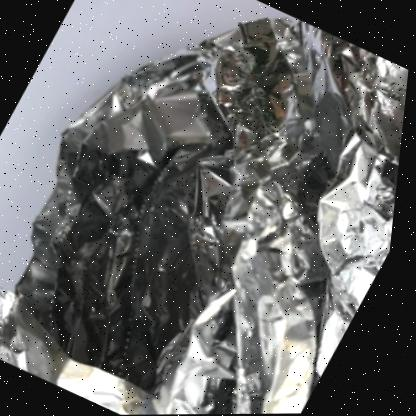Metal: (0, 17, 410, 415)
